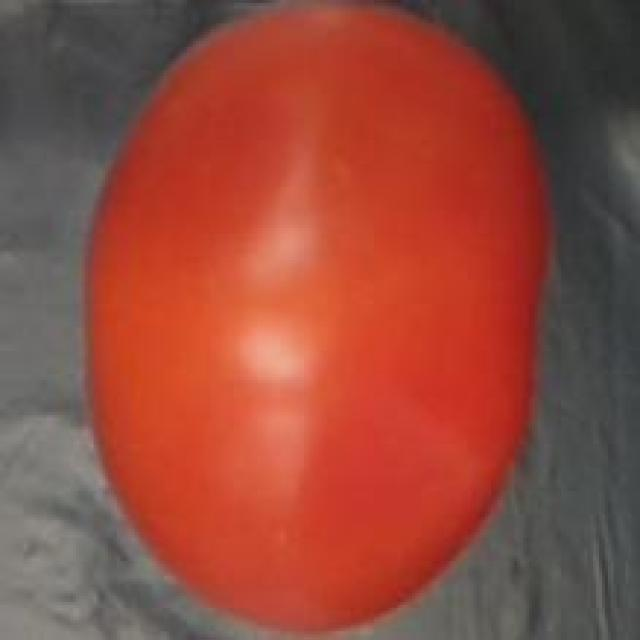ripe tomato: (76, 3, 564, 640)
